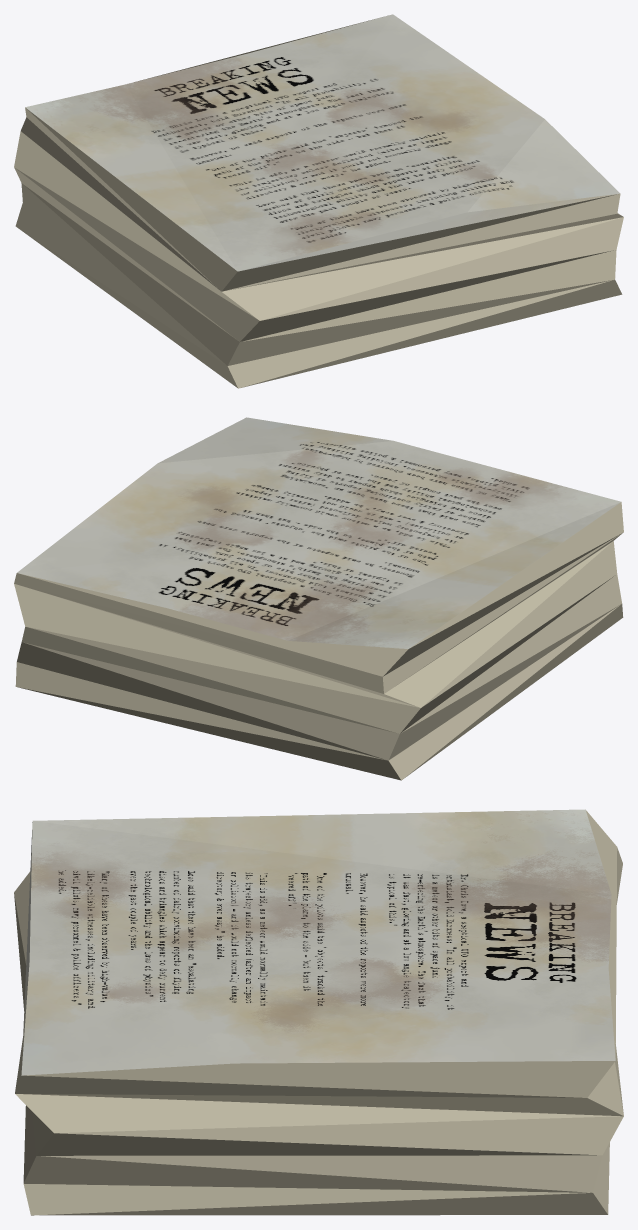
File: SM_Lost_Newspapers.fbx
3 renders of one model, top to bottom at view 1: azimuth 30°, elevation 25°; view 2: azimuth 150°, elevation 25°; view 3: azimuth 270°, elevation 25°, orthographic. The views are drawn at different scales.
Parts seen in each view (by area): view 1: SM_Lost_Newspapers; view 2: SM_Lost_Newspapers; view 3: SM_Lost_Newspapers.
Part boxes in pixels (x1,y1,x2,y2): SM_Lost_Newspapers: [14, 14, 623, 388]; SM_Lost_Newspapers: [14, 417, 623, 780]; SM_Lost_Newspapers: [14, 809, 623, 1215].
Size of the model in its own units: 43.22 by 12.69 by 43.22.
